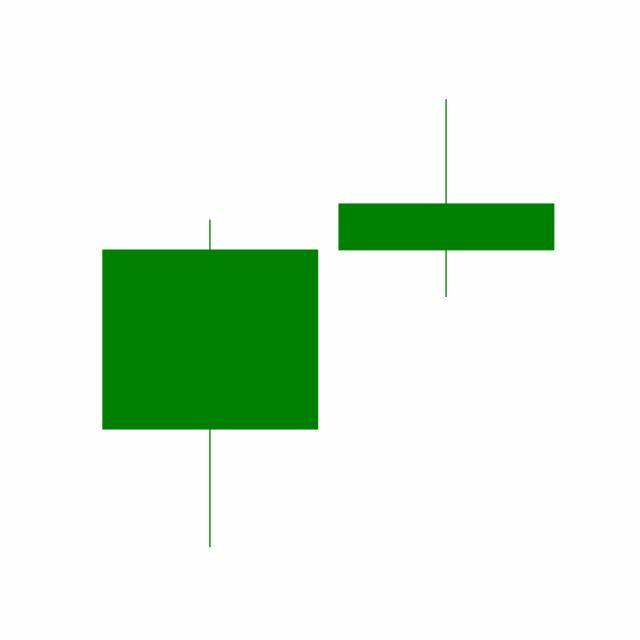Spinning Top: (328, 97, 566, 300)
